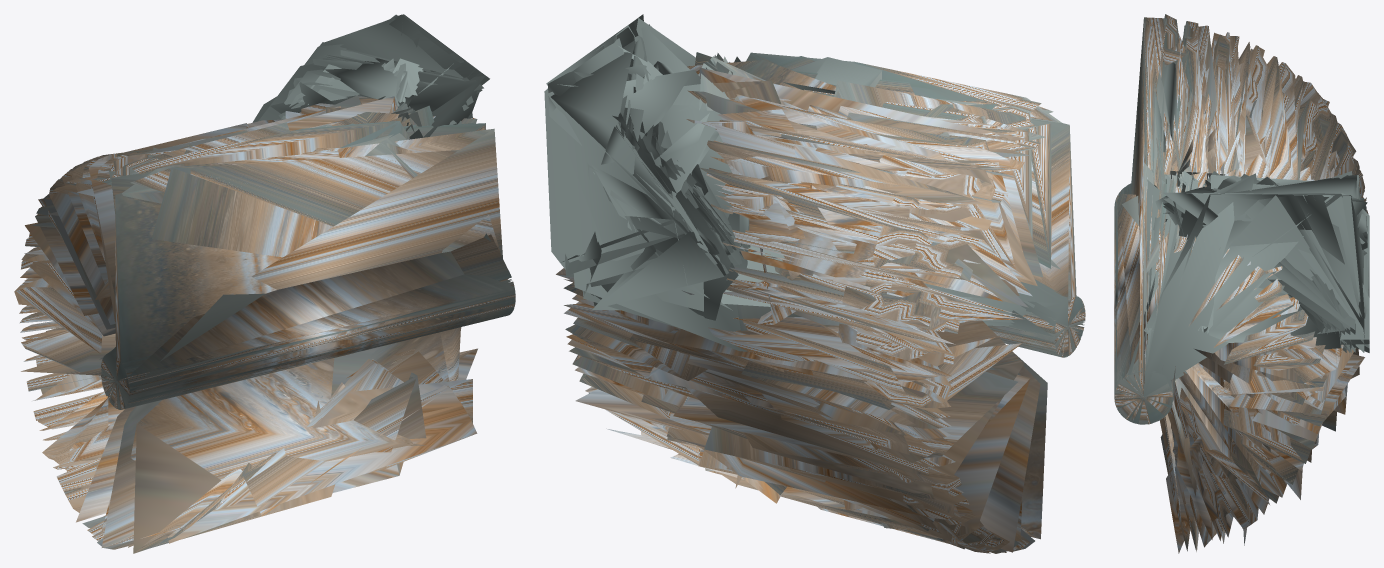
3 renders of one model, left to right at view 1: azimuth 30°, elevation 25°; view 2: azimuth 150°, elevation 25°; view 3: azimuth 270°, elevation 25°, orthographic. The views are drawn at different scales.
Visible parts, largest first — view 1: Sphere; view 2: Sphere; view 3: Sphere.
Boxes of the visible parts, x1,y1,x2,y2 form: Sphere: [14, 14, 515, 553]; Sphere: [544, 14, 1085, 553]; Sphere: [1114, 14, 1369, 553].
Size of the model in its own units: 200 by 198 by 113.
